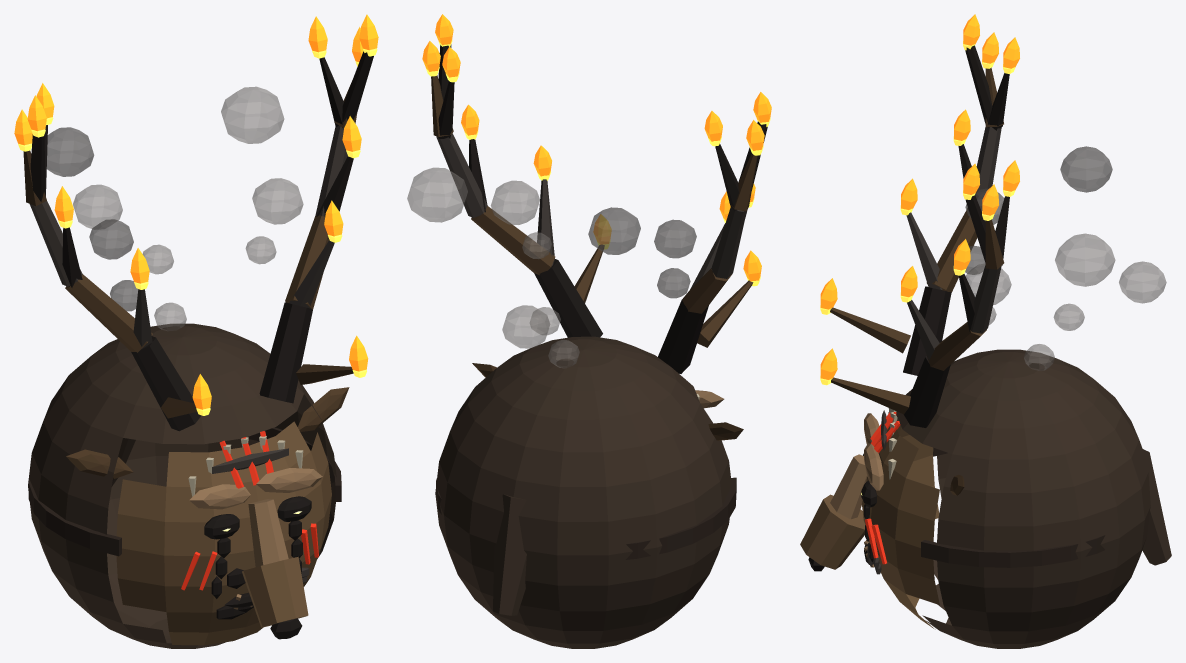
Rendered from sootmask_chief_mask.glb.
3 views of the same model, side by side, from view 1: azimuth 30°, elevation 25°; view 2: azimuth 150°, elevation 25°; view 3: azimuth 270°, elevation 25° (orthographic). The views are drawn at different scales.
Visible parts, largest first — view 1: sootmask_chief_mask; view 2: sootmask_chief_mask; view 3: sootmask_chief_mask.
Part boxes in pixels (x1,y1,x2,y2): sootmask_chief_mask: (14,14,378,648); sootmask_chief_mask: (407,14,771,648); sootmask_chief_mask: (800,14,1171,648).
Bounding box in the file's own units: 1.59 × 2.55 × 1.57.
